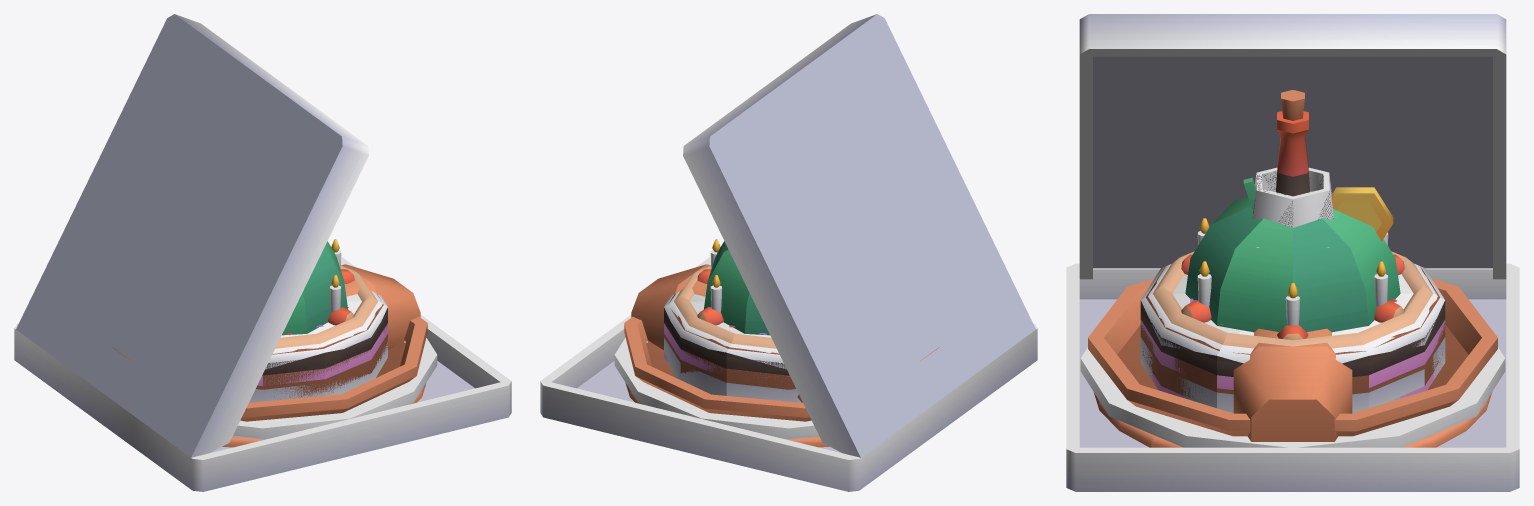
Rendered from food.glb.
The picture shows the model from 3 angles, left to right: view 1: azimuth 30°, elevation 25°; view 2: azimuth 150°, elevation 25°; view 3: azimuth 270°, elevation 25°; orthographic projection. The views are drawn at different scales.
Parts seen in each view (by area): view 1: pizza-box, slice (×3), tajine, plate-dinner, loaf-baguette; view 2: pizza-box, slice (×3), tajine, plate-dinner, loaf-baguette; view 3: pizza-box, slice (×3), tajine, loaf-baguette, plate-dinner, glass-wine, wine-red, cocktail, slice6.
Part boxes in pixels (<box>): pizza-box: <box>14,14,511,491</box>; slice (×3): <box>249,239,387,402</box>; tajine: <box>240,317,427,421</box>; plate-dinner: <box>233,338,437,439</box>; loaf-baguette: <box>112,264,420,361</box>; pizza-box: <box>540,14,1037,491</box>; slice (×3): <box>664,239,801,402</box>; tajine: <box>624,317,811,421</box>; plate-dinner: <box>614,338,818,439</box>; loaf-baguette: <box>631,264,939,361</box>; pizza-box: <box>1066,14,1519,491</box>; slice (×3): <box>1140,191,1445,413</box>; tajine: <box>1088,278,1497,436</box>; loaf-baguette: <box>1233,328,1352,441</box>; plate-dinner: <box>1080,347,1505,447</box>; glass-wine: <box>1252,167,1333,227</box>; wine-red: <box>1276,90,1309,196</box>; cocktail: <box>1243,177,1393,247</box>; slice6: <box>1093,392,1492,447</box>.
Bounding box in the file's own units: 0.9418 × 0.8816 × 0.9518.
1 material, 1 textured.
